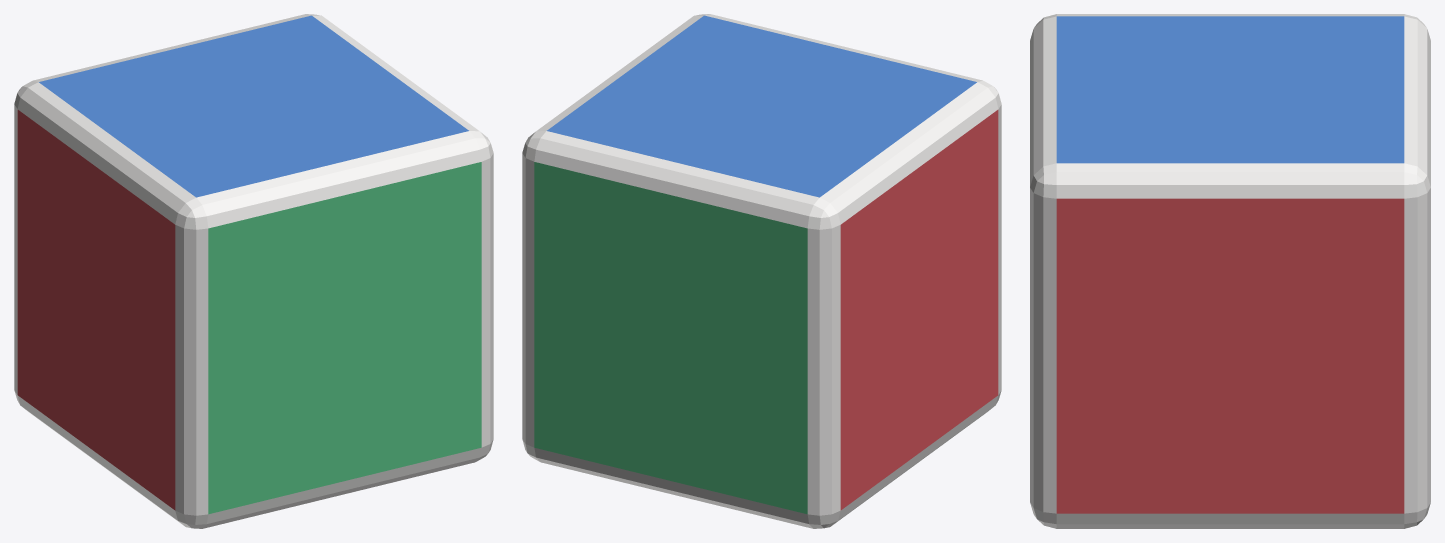
Rendered from ColorDie.fbx.
3 renders of one model, left to right at view 1: azimuth 30°, elevation 25°; view 2: azimuth 150°, elevation 25°; view 3: azimuth 270°, elevation 25°, orthographic. The views are drawn at different scales.
Visible parts, largest first — view 1: ColorDie; view 2: ColorDie; view 3: ColorDie.
Boxes of the visible parts, box(x1,y1,x2,y2) form: ColorDie: box(14, 14, 493, 528); ColorDie: box(522, 14, 1001, 528); ColorDie: box(1030, 14, 1430, 528).
Size of the model in its own units: 0.039 by 0.039 by 0.039.
